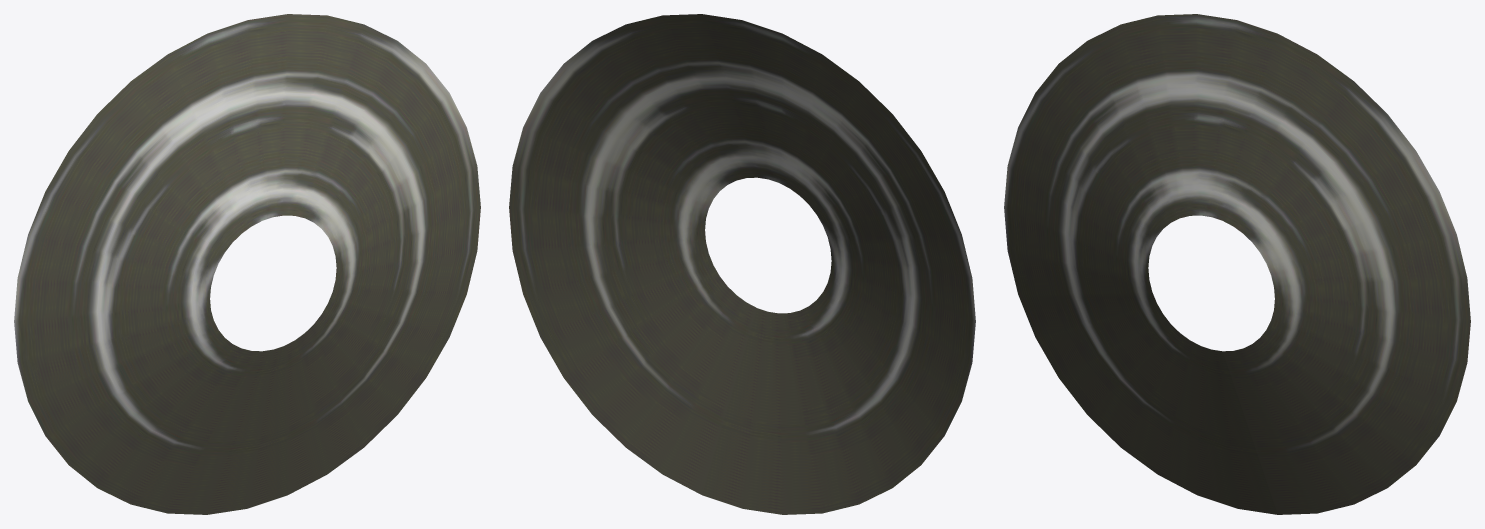
3 renders of one model, left to right at view 1: azimuth 30°, elevation 25°; view 2: azimuth 150°, elevation 25°; view 3: azimuth 330°, elevation 25°, orthographic.
Visible parts, largest first — view 1: DG_2; view 2: DG_2; view 3: DG_2.
Boxes of the visible parts, left/top/right/bottom form: DG_2: left=14, top=14, right=480, bottom=514; DG_2: left=509, top=14, right=975, bottom=514; DG_2: left=1004, top=14, right=1470, bottom=514.
Bounding box in the file's own units: 2.74 × 2.74 × 0.262.
1 material, 1 textured.
